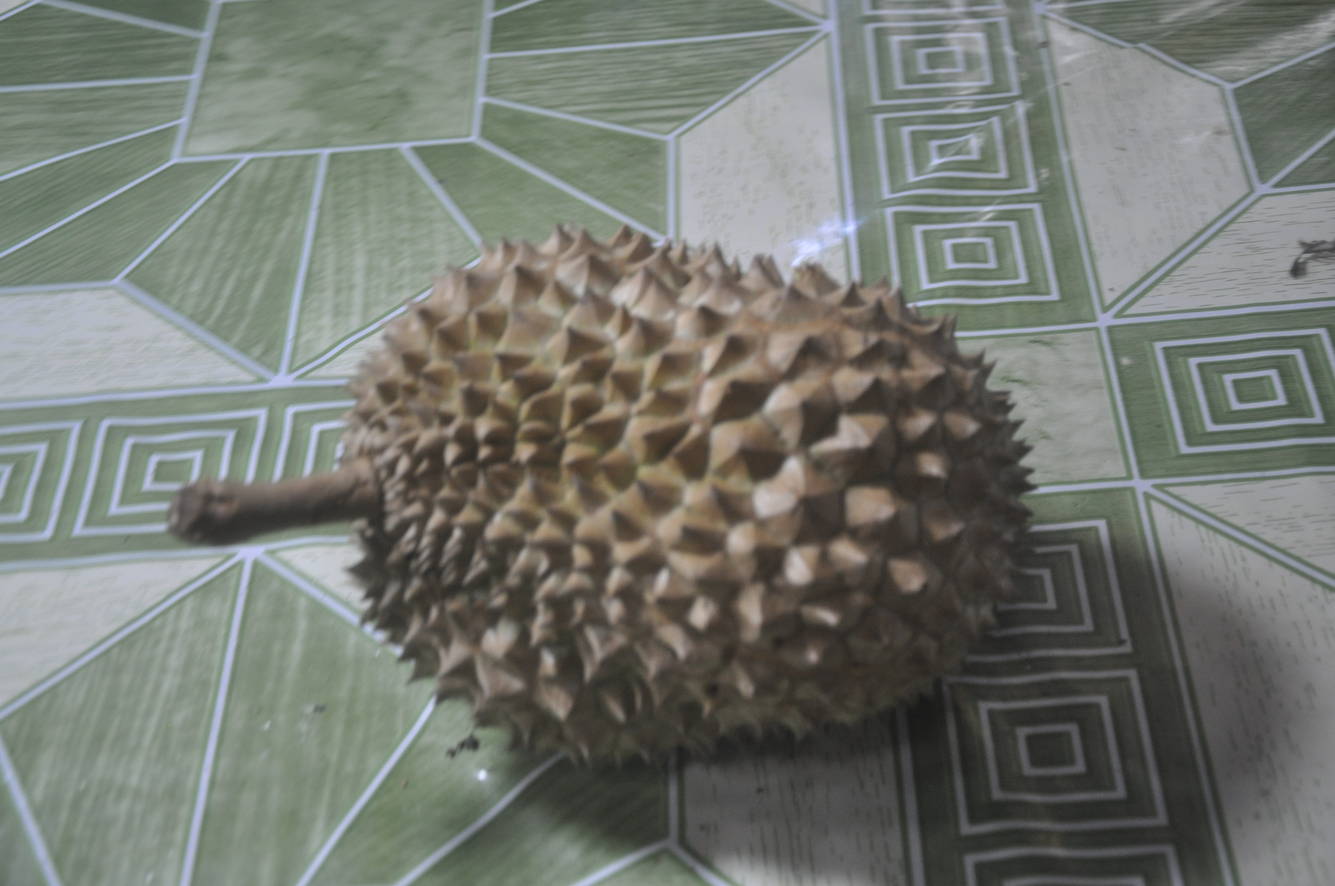mature: (170, 227, 1029, 762)
